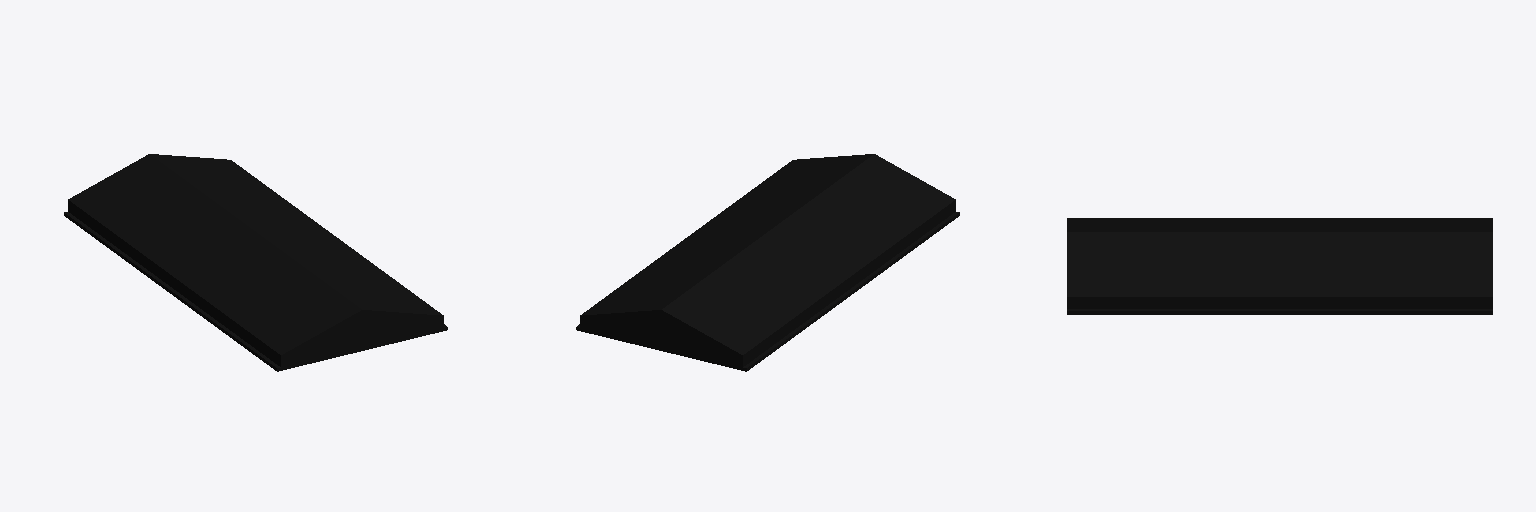
File: templeRoof.obj
3 views of the same model, side by side, from view 1: azimuth 30°, elevation 25°; view 2: azimuth 150°, elevation 25°; view 3: azimuth 270°, elevation 25° (orthographic).
Visible parts, largest first — view 1: Cube.001_Cube; view 2: Cube.001_Cube; view 3: Cube.001_Cube.
Boxes of the visible parts, box(x1,y1,x2,y2) form: Cube.001_Cube: box(64, 154, 447, 371); Cube.001_Cube: box(576, 154, 959, 371); Cube.001_Cube: box(1067, 218, 1492, 314).
Size of the model in its own units: 10.52 by 2.85 by 22.76.